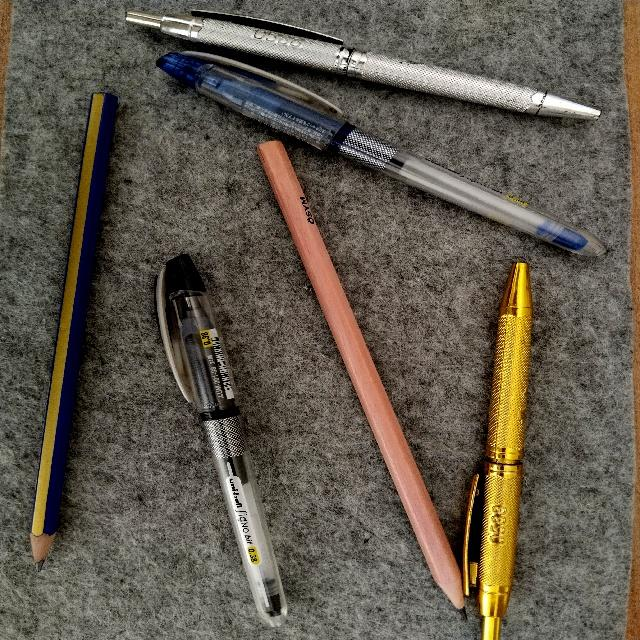pen: (157, 53, 604, 255), (156, 254, 286, 626)
pencil: (258, 141, 463, 608), (30, 93, 117, 569)
signature pen: (126, 11, 599, 119), (463, 262, 531, 639)
